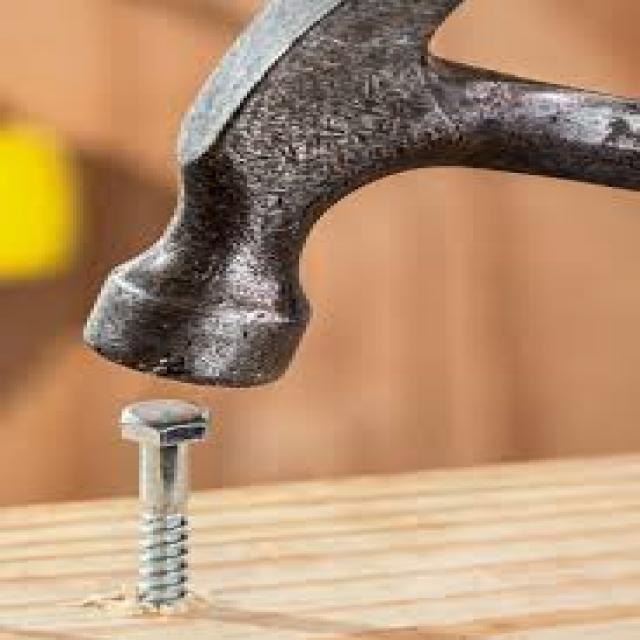hammer: (69, 0, 640, 402)
